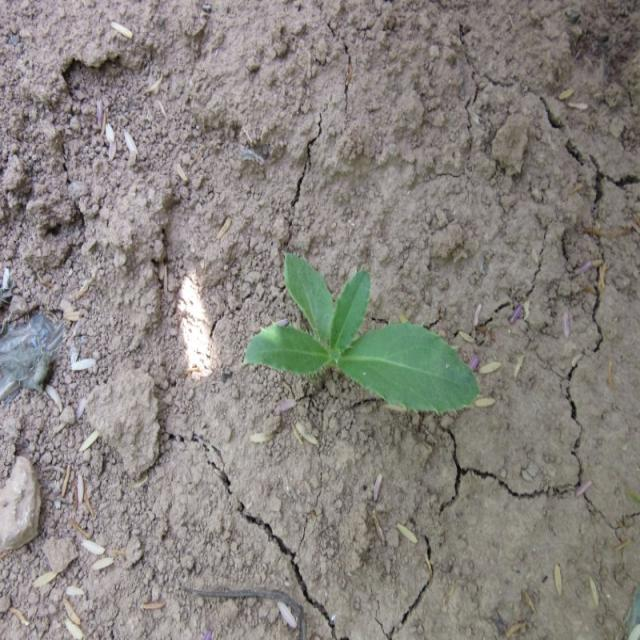field_thistle: (236, 242, 486, 430)
